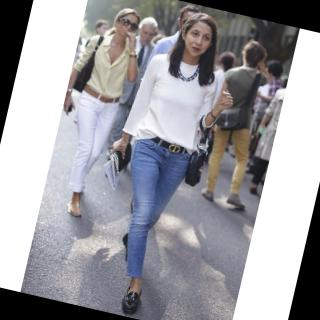loafers: (116, 278, 148, 320)
